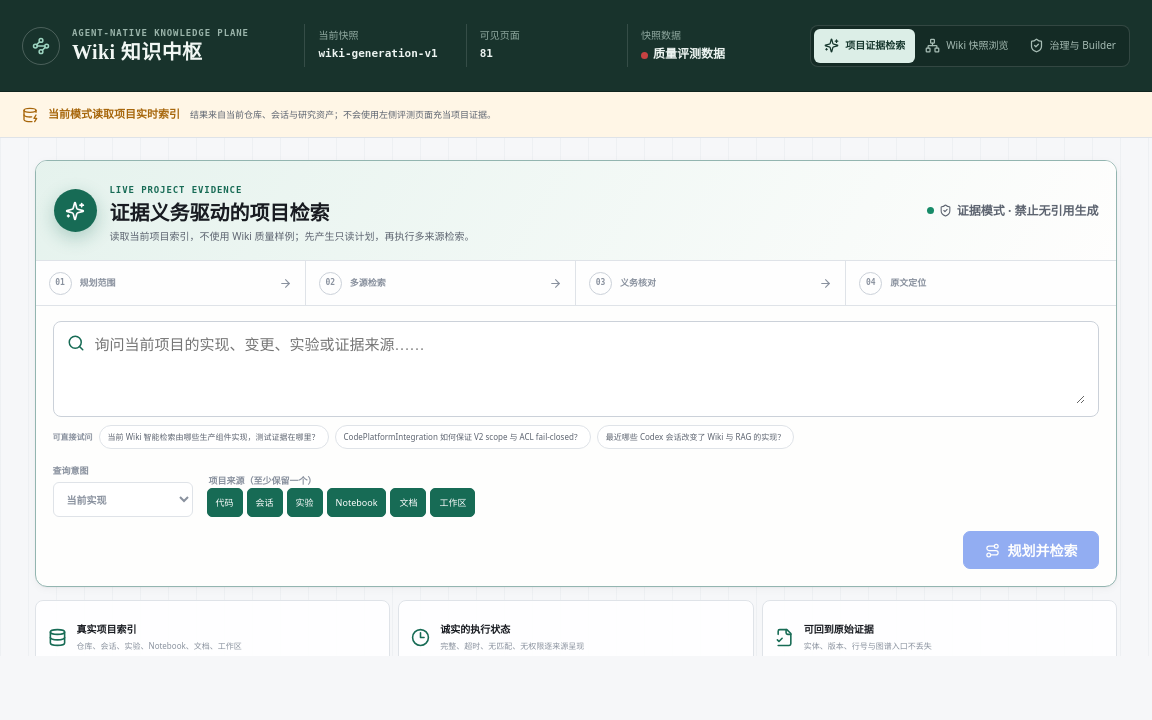
Scenario: WikiWorkbench › plans and executes a live project evidence query instead of the quality snapshot
Expected: the heading "证据义务驱动的项目检索" is shown, 110,202 -> 330,224
Expected: the text "证据模式 · 禁止无引用生成" is shown, 927,202 -> 1098,220
Type "当前实现如何保证 ACL？" into the text box named "项目证据查询".
click(590, 369); type("当前实现如何保证 ACL？")  # box 94,334 -> 1085,404
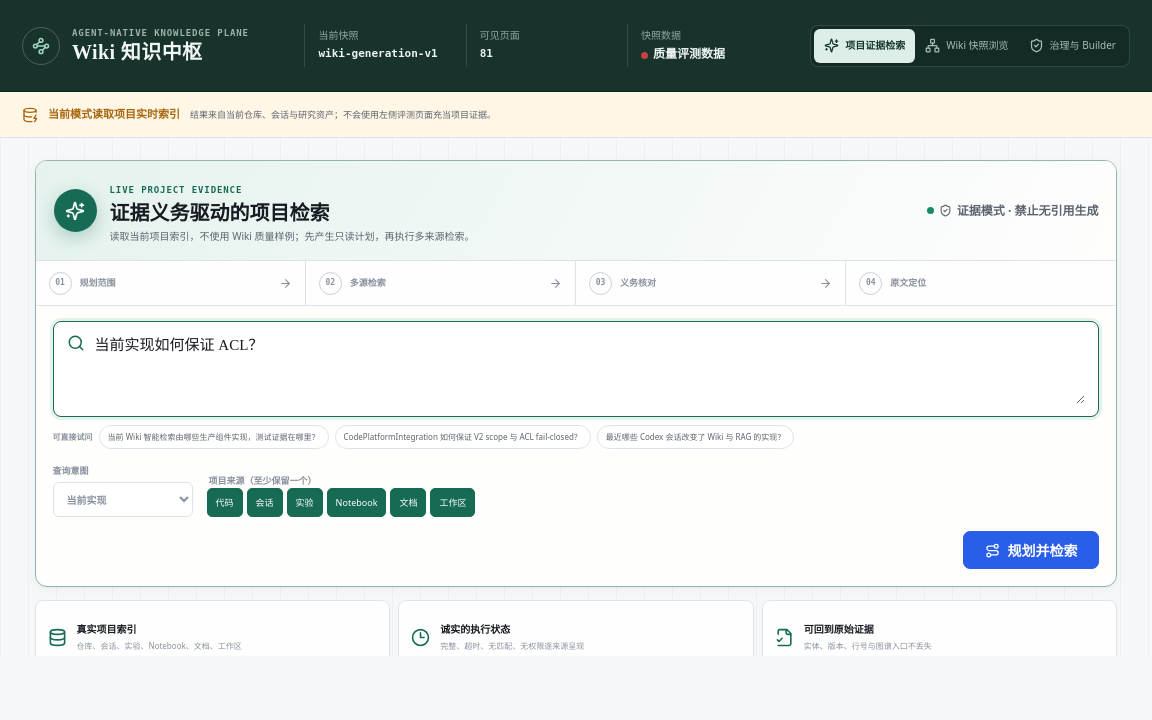
Click the button "规划并检索".
click(1032, 550)  # box 964,531 -> 1100,569
(page scrolled)
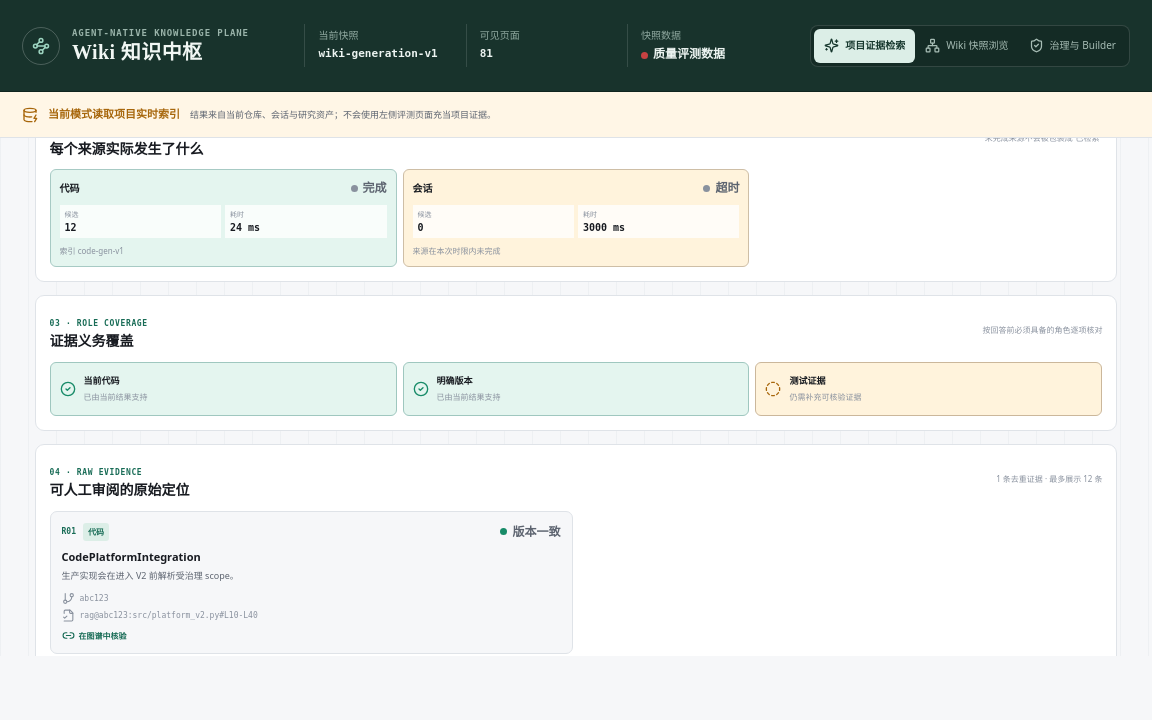
Now the heading "每个来源实际发生了什么" is shown, box 50,142 -> 204,158
Now the heading "可人工审阅的原始定位" is shown, box 50,483 -> 190,500
Now the text "CodePlatformIntegration" is shown 3 times
